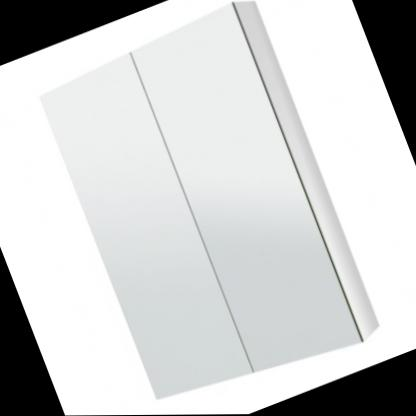Cabinet: (24, 0, 388, 416)
